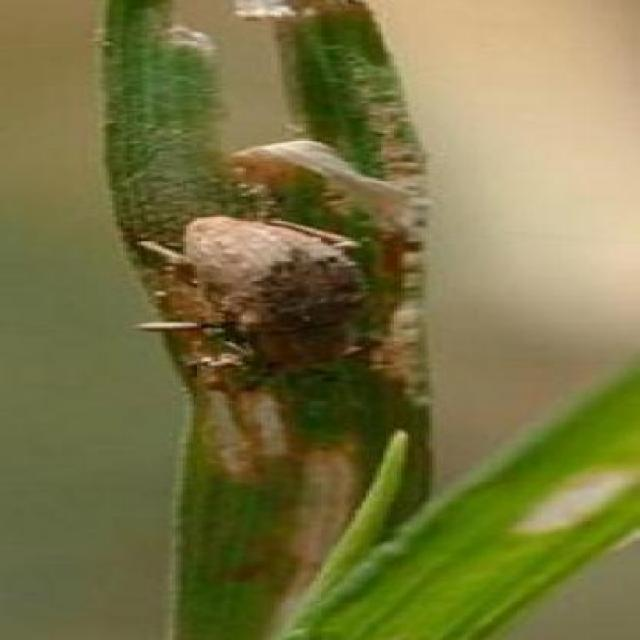rice-bug: (110, 215, 418, 372)
